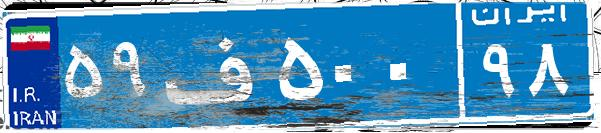0: (385, 28, 445, 110), (330, 28, 385, 110)
5: (273, 28, 330, 110), (57, 26, 110, 107)
8: (525, 38, 570, 115)
9: (475, 38, 525, 113), (110, 28, 158, 105)
ف: (158, 15, 273, 115)
